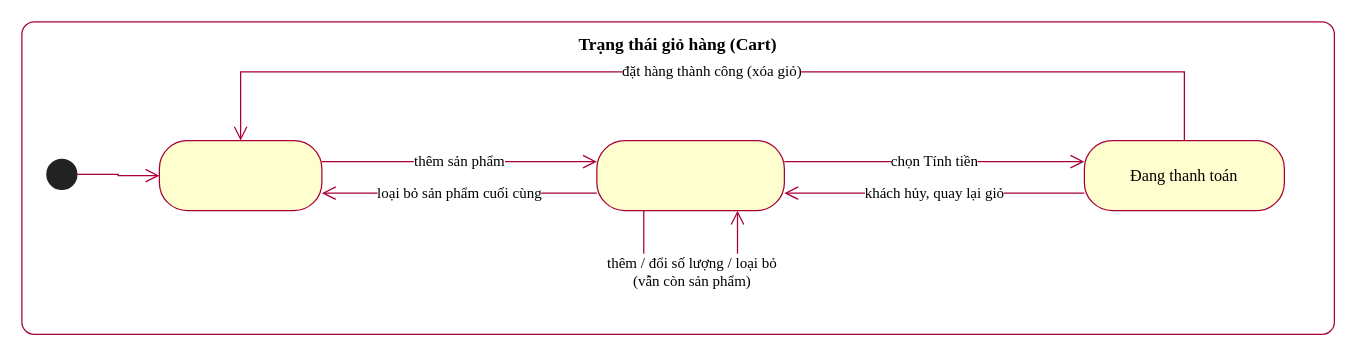
The diagram is 1356 pixels wide and 356 high, and some of its shapes have lost their labels. Each missing label, with the centre of its shape:
"Có sản phẩm" goes at point 690,175.
"Trống" goes at point 240,175.
